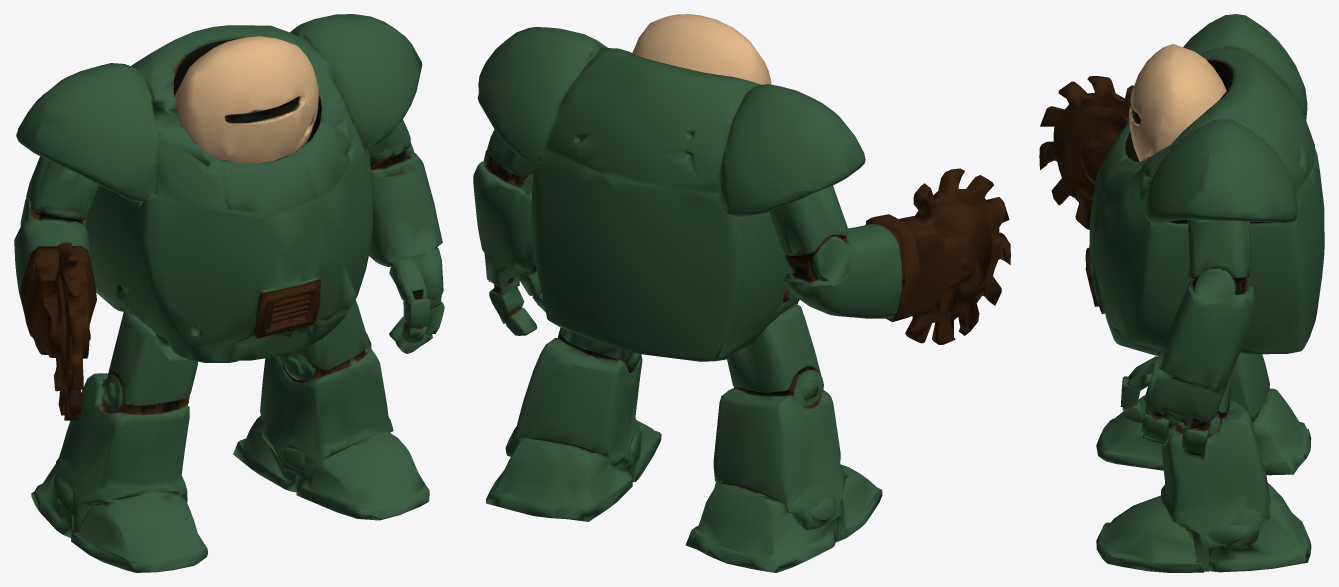
The model's file is tripo-lod.glb.
The picture shows the model from 3 angles, left to right: view 1: azimuth 30°, elevation 25°; view 2: azimuth 150°, elevation 25°; view 3: azimuth 270°, elevation 25°; orthographic projection. The views are drawn at different scales.
Visible parts, largest first — view 1: wood cutter tripo lod; view 2: wood cutter tripo lod; view 3: wood cutter tripo lod.
Part boxes in pixels (bbox=[...]): wood cutter tripo lod: bbox=[14, 14, 444, 572]; wood cutter tripo lod: bbox=[473, 14, 1010, 572]; wood cutter tripo lod: bbox=[1039, 14, 1324, 572].
Size of the model in its own units: 2.33 by 2.4 by 1.38.
Materials: 1 (1 with a texture image).
